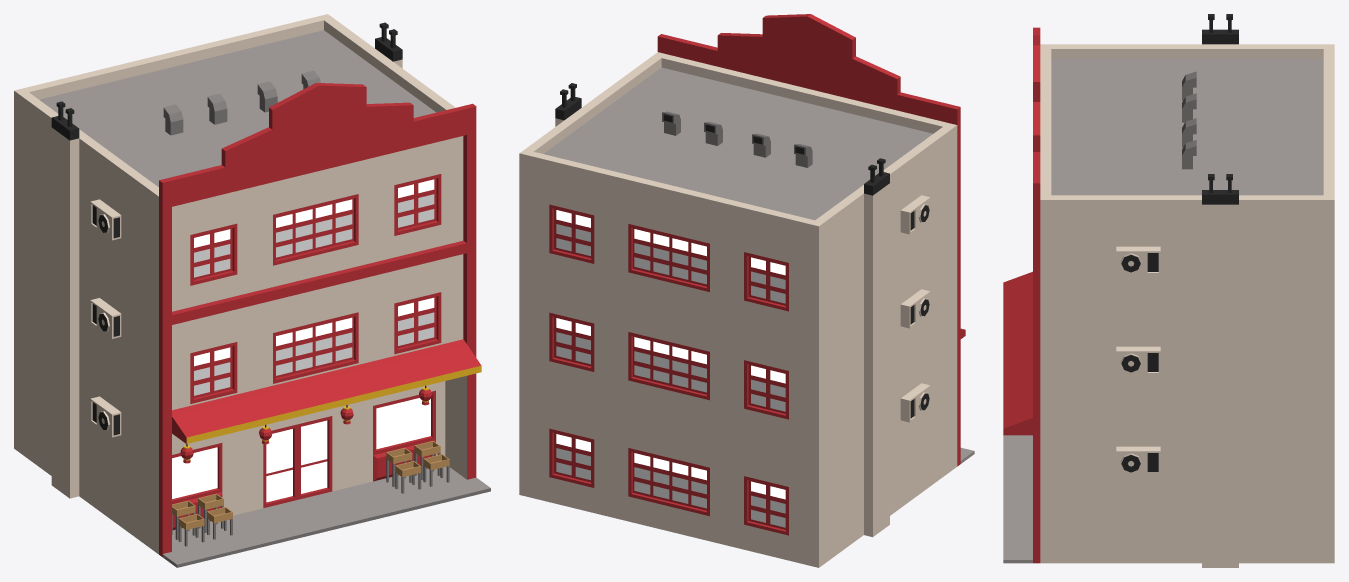
File: buildings-building-market-china.glb
The picture shows the model from 3 angles, left to right: view 1: azimuth 30°, elevation 25°; view 2: azimuth 150°, elevation 25°; view 3: azimuth 270°, elevation 25°; orthographic projection. The views are drawn at different scales.
Visible parts, largest first — view 1: building-market-china; view 2: building-market-china; view 3: building-market-china.
Boxes of the visible parts, bbox=[...] form: building-market-china: bbox=[14, 14, 490, 567]; building-market-china: bbox=[519, 14, 974, 567]; building-market-china: bbox=[1003, 14, 1334, 567].
Size of the model in its own units: 10.7 by 13.2 by 9.
